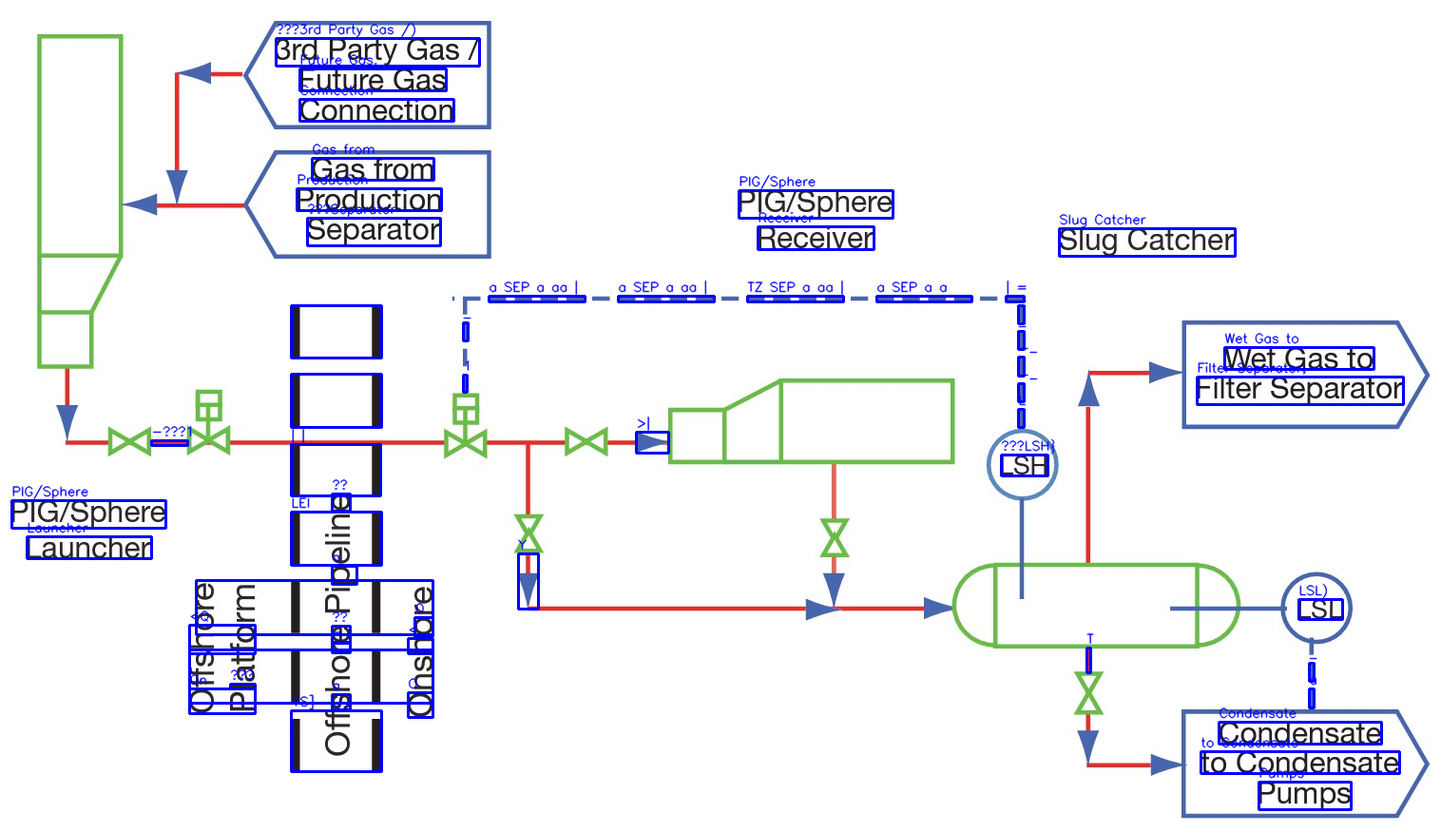Instrumento: (986, 427, 1064, 502), (1279, 568, 1352, 645)
Separador: (33, 29, 125, 373), (664, 374, 961, 470)
Vaso: (946, 550, 1252, 654)
Válvula: (182, 384, 236, 461), (441, 390, 492, 463), (1066, 667, 1109, 721), (812, 513, 854, 564), (103, 422, 158, 458), (559, 422, 612, 458), (509, 507, 548, 554)
